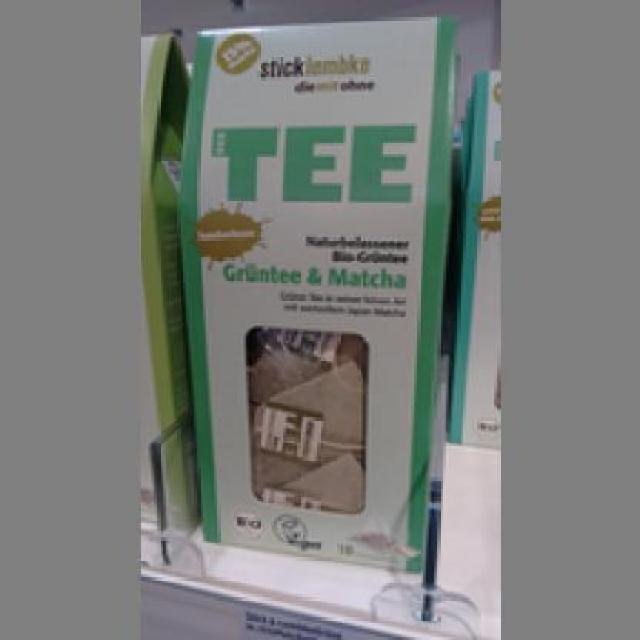Tea: (168, 8, 452, 574)
